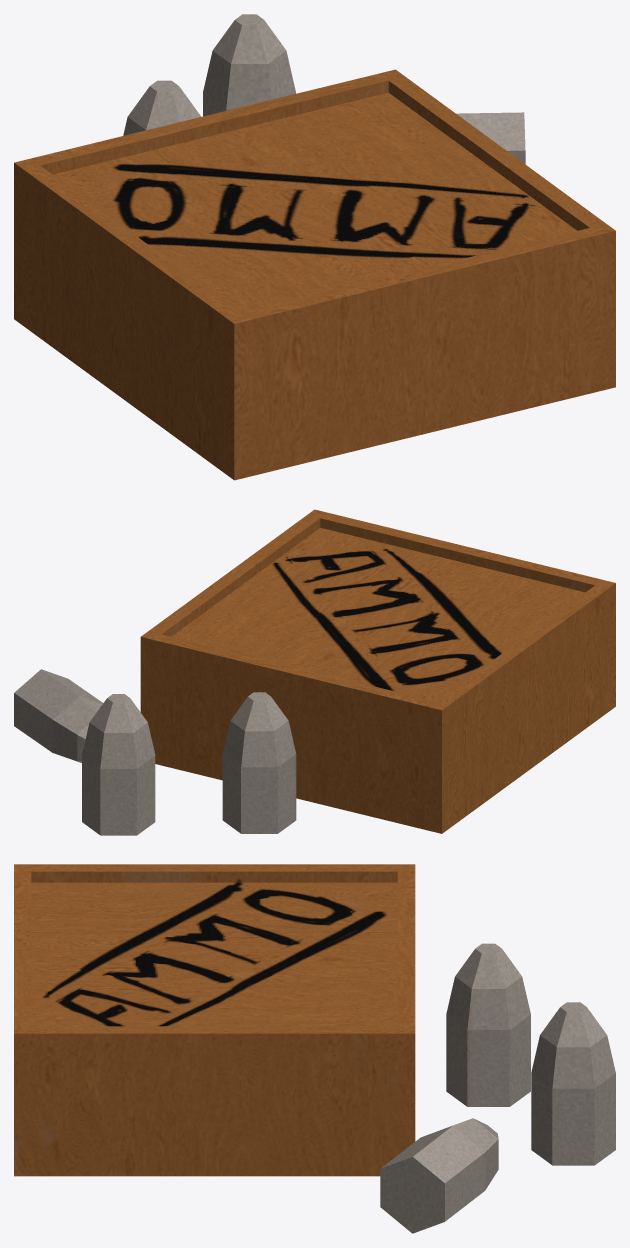
Rendered from ammobox.fbx.
The picture shows the model from 3 angles, top to bottom: view 1: azimuth 30°, elevation 25°; view 2: azimuth 150°, elevation 25°; view 3: azimuth 270°, elevation 25°; orthographic projection. The views are drawn at different scales.
Parts seen in each view (by area): view 1: lab_Ammo; view 2: lab_Ammo; view 3: lab_Ammo.
Boxes of the visible parts, x1,y1,x2,y2 form: lab_Ammo: (14, 14, 615, 480); lab_Ammo: (14, 509, 615, 835); lab_Ammo: (14, 864, 615, 1233).
Bounding box in the file's own units: 51.04 × 14.67 × 55.59.
